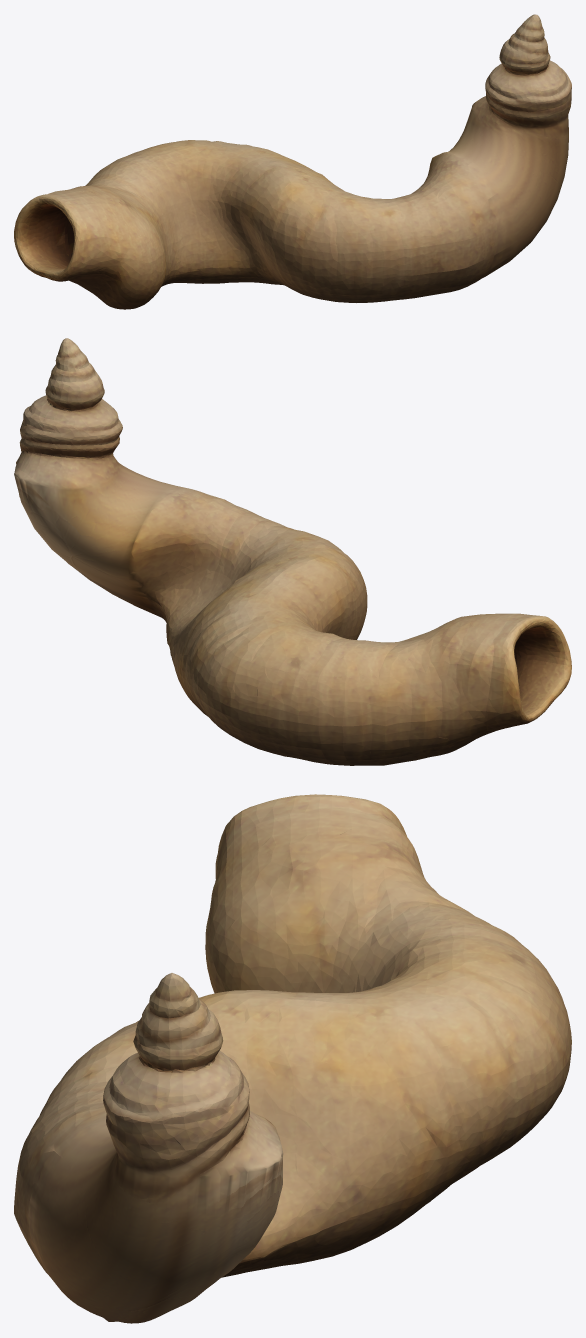
The picture shows the model from 3 angles, top to bottom: view 1: azimuth 30°, elevation 25°; view 2: azimuth 150°, elevation 25°; view 3: azimuth 270°, elevation 25°; orthographic projection. The views are drawn at different scales.
Parts seen in each view (by area): view 1: world; view 2: world; view 3: world.
Part boxes in pixels (x1,y1,x2,y2): world: (14, 14, 571, 309); world: (14, 338, 571, 765); world: (14, 794, 571, 1323).
Bounding box in the file's own units: 0.12 × 0.0592 × 0.0674.
Materials: 3 (3 with a texture image).
